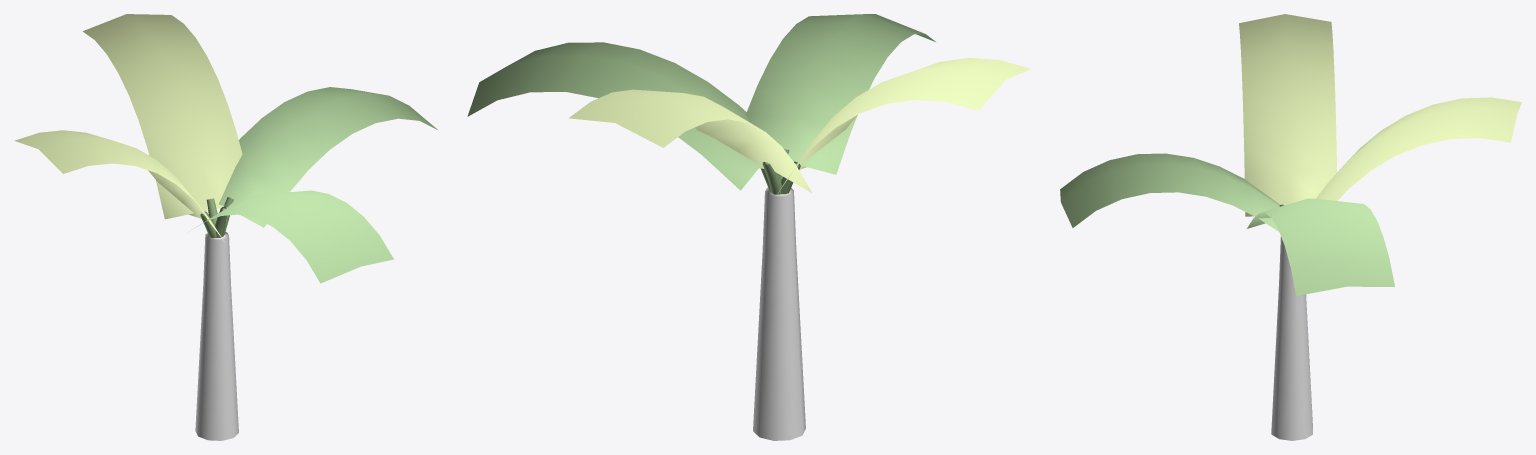
Rendered from plant_banana_b.glb.
3 renders of one model, left to right at view 1: azimuth 30°, elevation 25°; view 2: azimuth 150°, elevation 25°; view 3: azimuth 270°, elevation 25°, orthographic. The views are drawn at different scales.
Parts seen in each view (by area): view 1: plant_broadleaf_2; view 2: plant_broadleaf_2; view 3: plant_broadleaf_2.
Part boxes in pixels (left/top/right/bottom): plant_broadleaf_2: left=14, top=14, right=437, bottom=440; plant_broadleaf_2: left=467, top=14, right=1030, bottom=440; plant_broadleaf_2: left=1060, top=14, right=1521, bottom=440.
Size of the model in its own units: 3.53 by 2.76 by 3.48.
